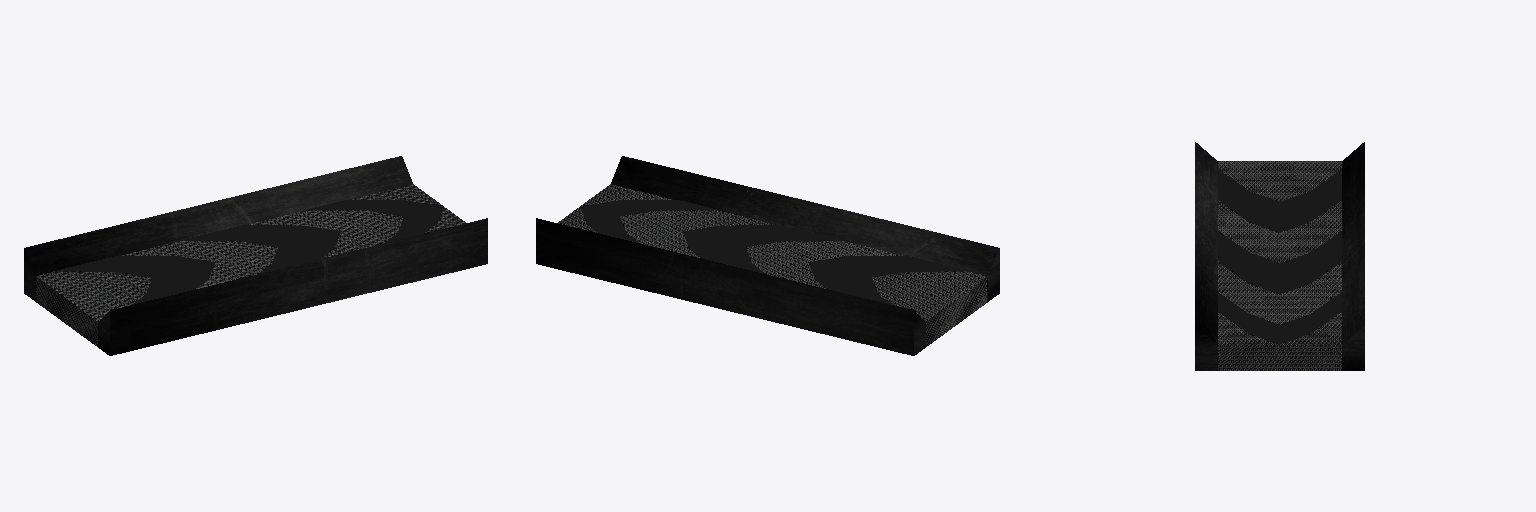
3 views of the same model, side by side, from view 1: azimuth 30°, elevation 25°; view 2: azimuth 150°, elevation 25°; view 3: azimuth 270°, elevation 25° (orthographic).
Parts seen in each view (by area): view 1: Conveyor1; view 2: Conveyor1; view 3: Conveyor1.
Part boxes in pixels (bbox=[...]): Conveyor1: bbox=[24, 156, 487, 355]; Conveyor1: bbox=[536, 156, 999, 355]; Conveyor1: bbox=[1195, 142, 1364, 370].
Size of the model in its own units: 24.29 by 2.83 by 9.52.
Materials: 1 (1 with a texture image).